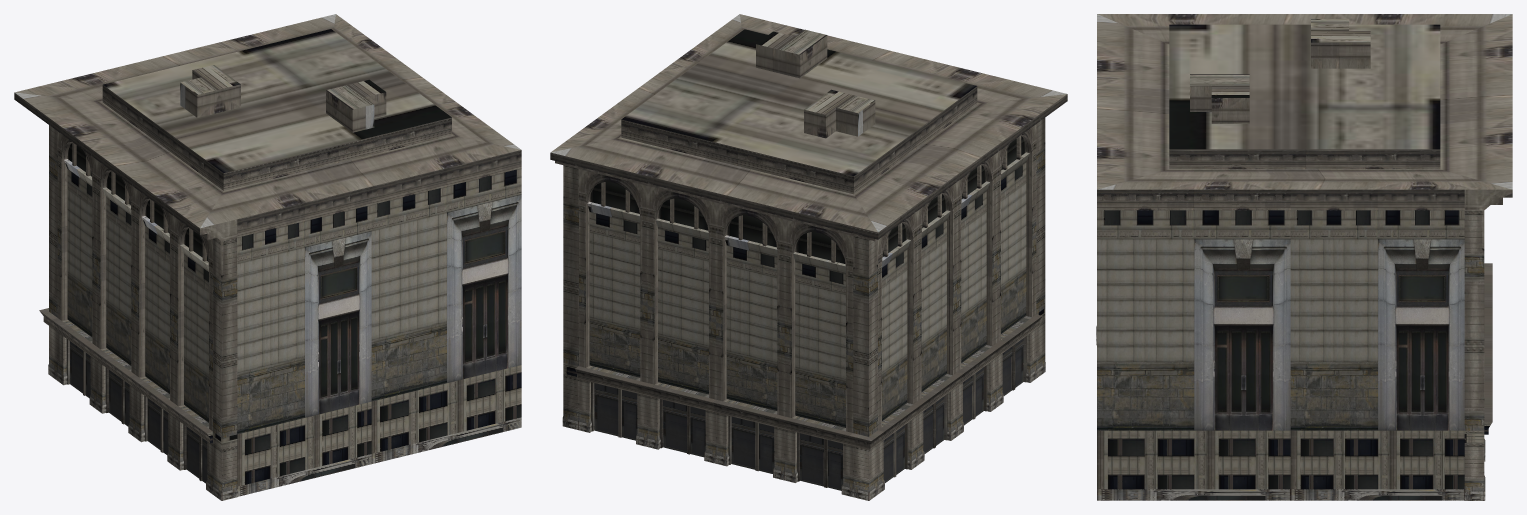
Rendered from Residential_2.fbx.
3 views of the same model, side by side, from view 1: azimuth 30°, elevation 25°; view 2: azimuth 150°, elevation 25°; view 3: azimuth 270°, elevation 25° (orthographic). The views are drawn at different scales.
Visible parts, largest first — view 1: Downtown_Residential_2__4_; view 2: Downtown_Residential_2__4_; view 3: Downtown_Residential_2__4_.
Part boxes in pixels (<box>): Downtown_Residential_2__4_: <box>14,14,521,500</box>; Downtown_Residential_2__4_: <box>550,14,1067,500</box>; Downtown_Residential_2__4_: <box>1096,14,1512,500</box>.
Bounding box in the file's own units: 3832 × 3621 × 3832.
Materials: 2 (2 with a texture image).
